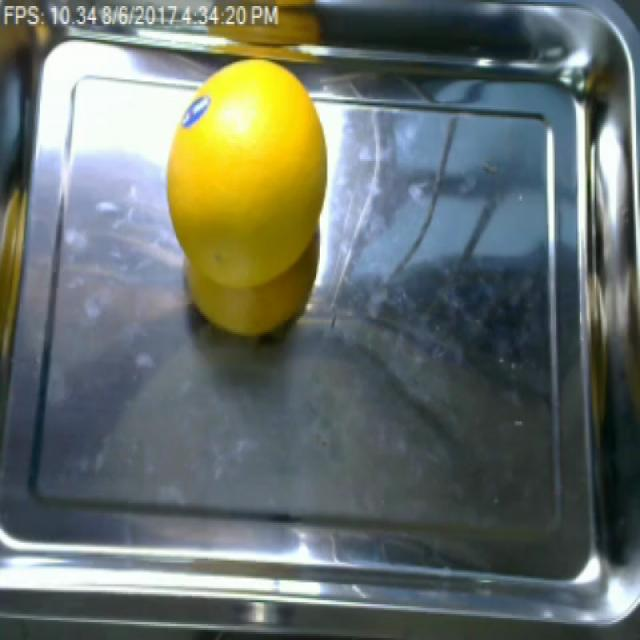Fruit: (157, 54, 335, 346)
